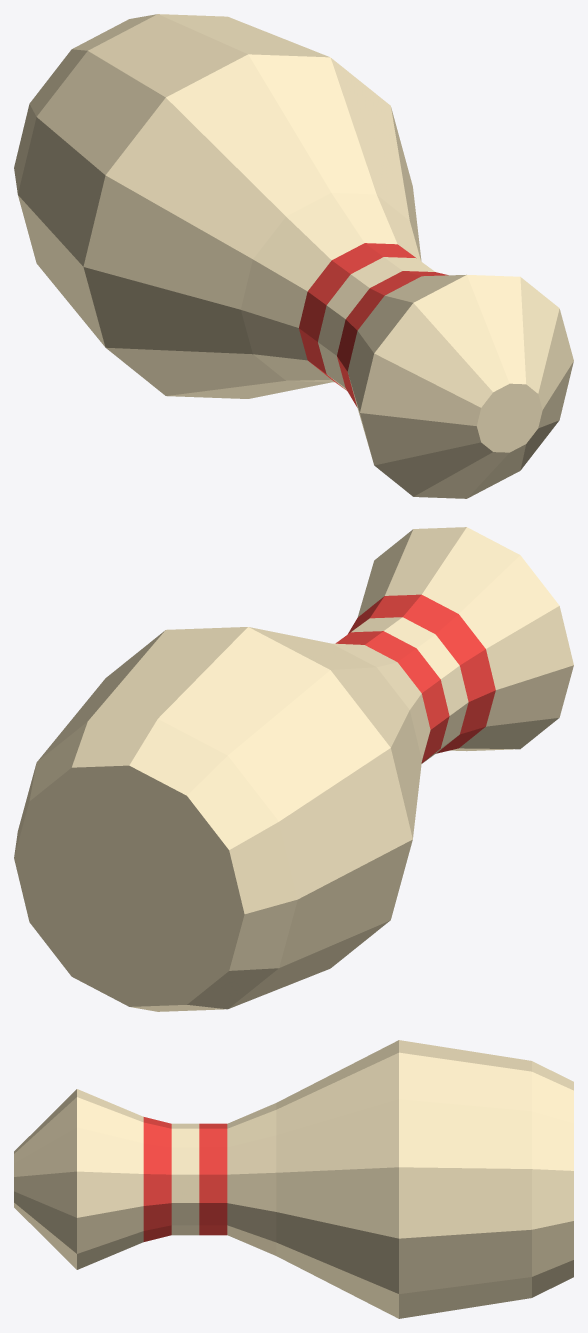
The model's file is arcade-pin.glb.
3 views of the same model, one above another, from view 1: azimuth 30°, elevation 25°; view 2: azimuth 150°, elevation 25°; view 3: azimuth 270°, elevation 25° (orthographic). The views are drawn at different scales.
Visible parts, largest first — view 1: cel_cream_arcade pin, cel_red_arcade pin; view 2: cel_cream_arcade pin, cel_red_arcade pin; view 3: cel_cream_arcade pin, cel_red_arcade pin.
Part boxes in pixels (x1,y1,x2,y2): cel_cream_arcade pin: (14, 14, 573, 498); cel_red_arcade pin: (299, 243, 448, 407); cel_cream_arcade pin: (14, 527, 573, 1011); cel_red_arcade pin: (335, 594, 495, 763); cel_cream_arcade pin: (14, 1040, 573, 1318); cel_red_arcade pin: (143, 1117, 227, 1241).
Size of the model in its own units: 0.8 by 0.8 by 1.6.
